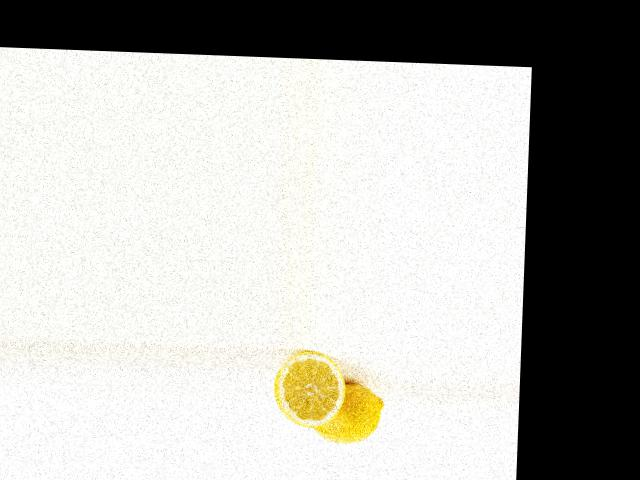lemon: (310, 374, 387, 444)
